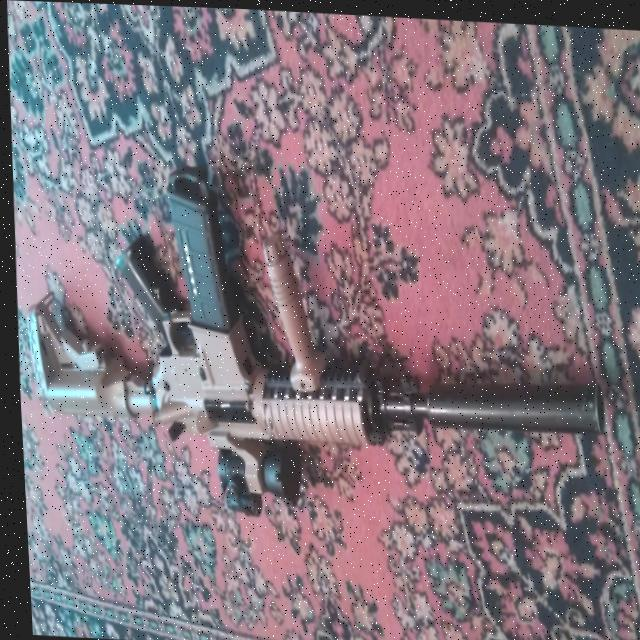firearm: (11, 152, 611, 532)
